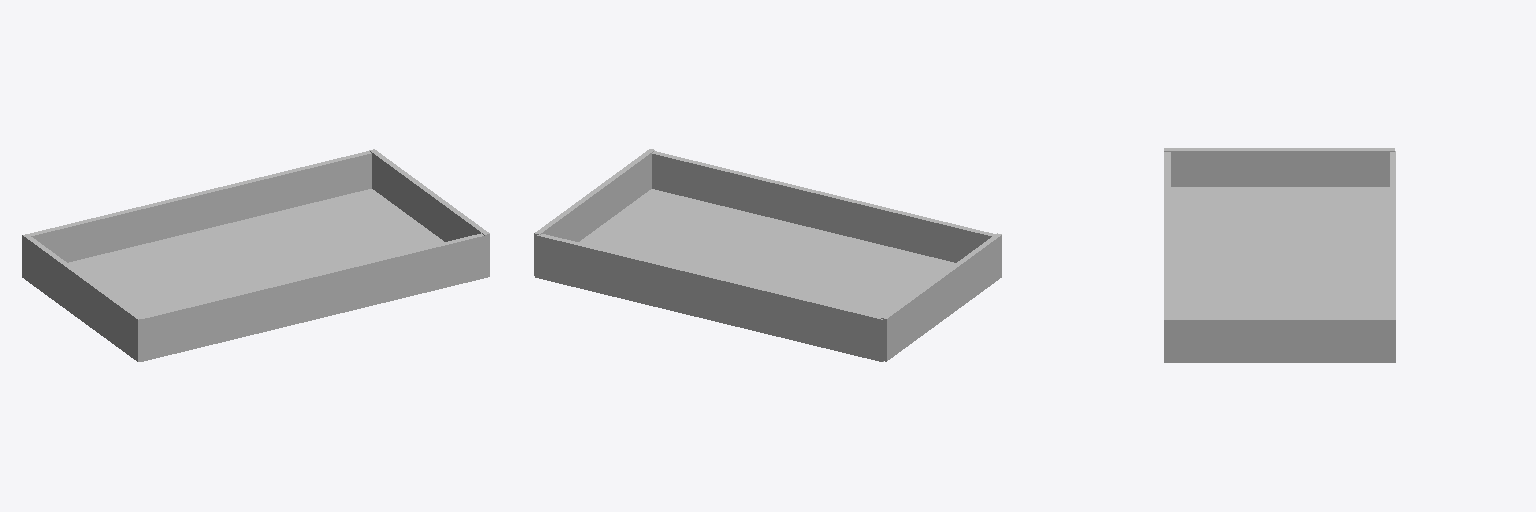
Rendered from board.obj.
3 renders of one model, left to right at view 1: azimuth 30°, elevation 25°; view 2: azimuth 150°, elevation 25°; view 3: azimuth 270°, elevation 25°, orthographic.
Parts seen in each view (by area): view 1: Cube.004_Cube.007; view 2: Cube.004_Cube.007; view 3: Cube.004_Cube.007.
Boxes of the visible parts, x1,y1,x2,y2 form: Cube.004_Cube.007: [22, 149, 489, 361]; Cube.004_Cube.007: [534, 149, 1001, 361]; Cube.004_Cube.007: [1164, 148, 1395, 362].
Size of the model in its own units: 26.25 by 3.11 by 15.01.